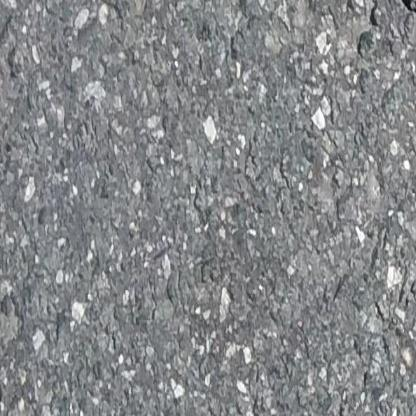Cracks: (396, 0, 416, 45)
